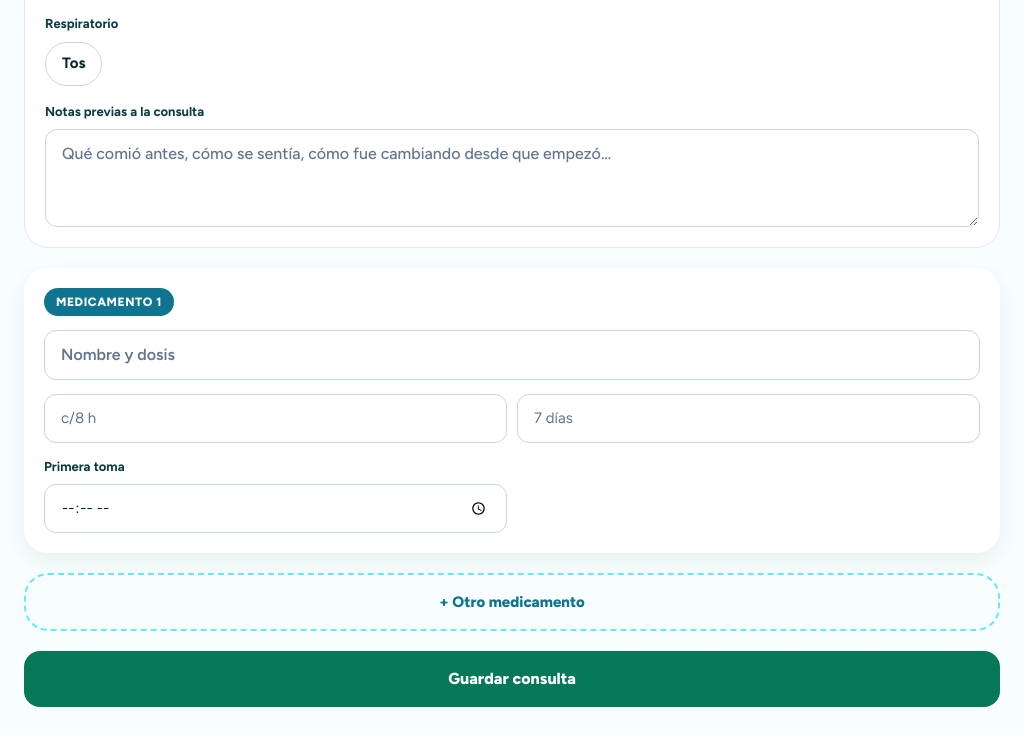
Test: ConsultationForm › validation and saving › shows validation errors and says what is missing when required fields are empty
(page scrolled)
Click the button "Guardar consulta" at point(512, 679), box left=24, top=651, right=1000, bottom=707
(page scrolled)
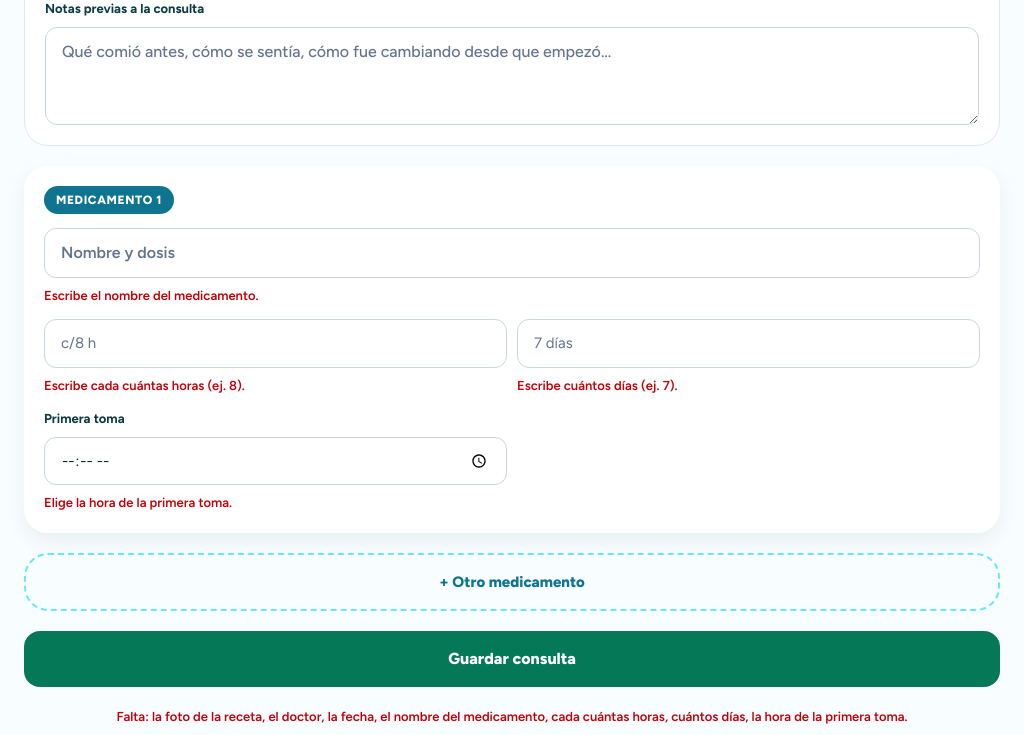
Expected: the text "Escribe el nombre del medicamento." is shown, left=44, top=288, right=258, bottom=303
Expected: the text "Escribe cada cuántas horas (ej. 8)." is shown, left=44, top=378, right=245, bottom=393
Expected: the text "Escribe cuántos días (ej. 7)." is shown, left=517, top=378, right=678, bottom=393
